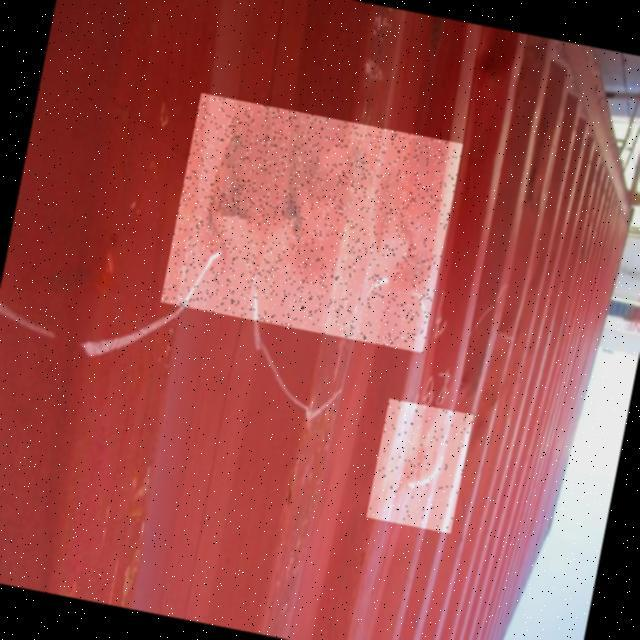Dent: (161, 93, 464, 353)
Minor-Dent: (366, 399, 474, 534)
